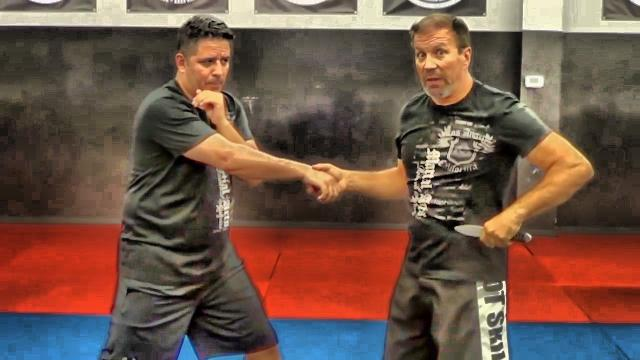knife: (450, 221, 538, 252)
